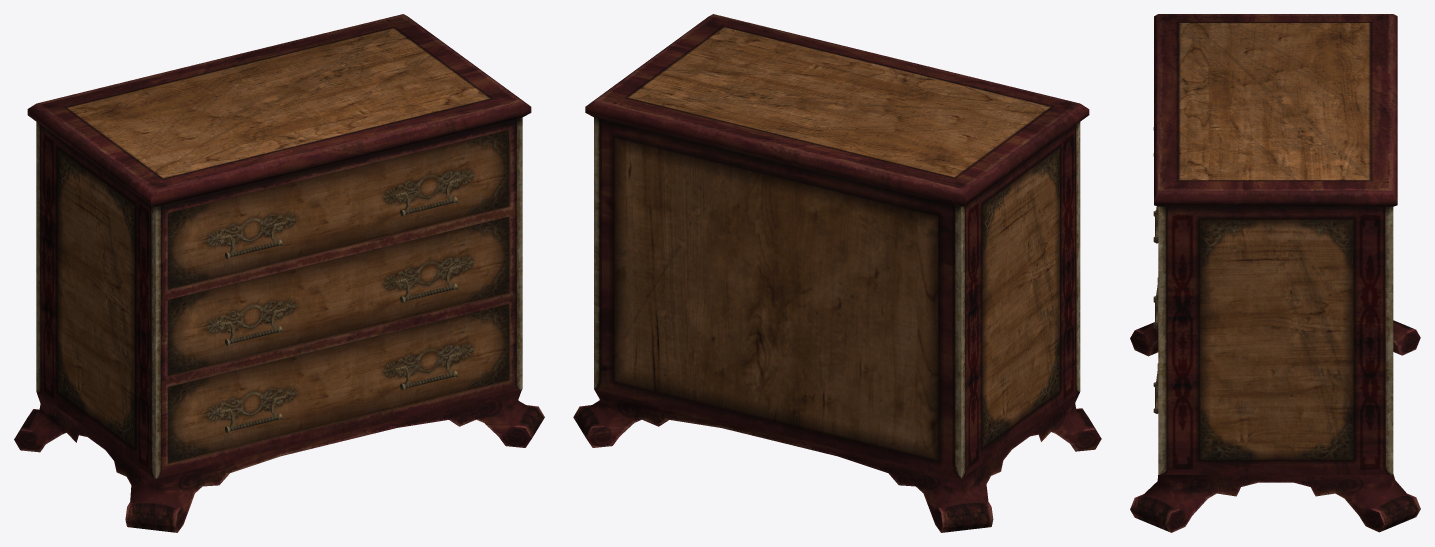
The model's file is chest_of_drawers_nice.dae.
3 renders of one model, left to right at view 1: azimuth 30°, elevation 25°; view 2: azimuth 150°, elevation 25°; view 3: azimuth 270°, elevation 25°, orthographic.
Parts seen in each view (by area): view 1: pCube1, polySurface27, polySurface28, polySurface26, polySurface11; view 2: pCube1, polySurface11; view 3: pCube1, polySurface11.
Boxes of the visible parts, bbox=[...] form: pCube1: bbox=[27, 14, 531, 478]; polySurface27: bbox=[167, 130, 509, 289]; polySurface28: bbox=[167, 304, 509, 463]; polySurface26: bbox=[167, 216, 509, 375]; polySurface11: bbox=[14, 389, 544, 532]; pCube1: bbox=[585, 14, 1089, 478]; polySurface11: bbox=[573, 389, 1101, 532]; pCube1: bbox=[1154, 14, 1397, 474]; polySurface11: bbox=[1130, 320, 1420, 532].
Bounding box in the file's own units: 1.84 × 1.4 × 1.11.
